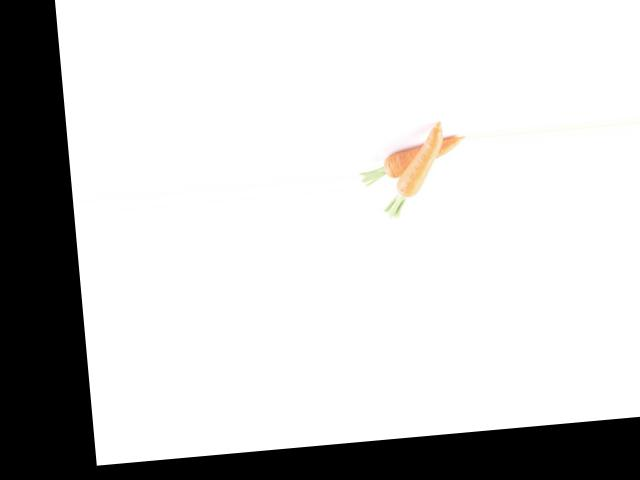carrot: (368, 138, 466, 176)
